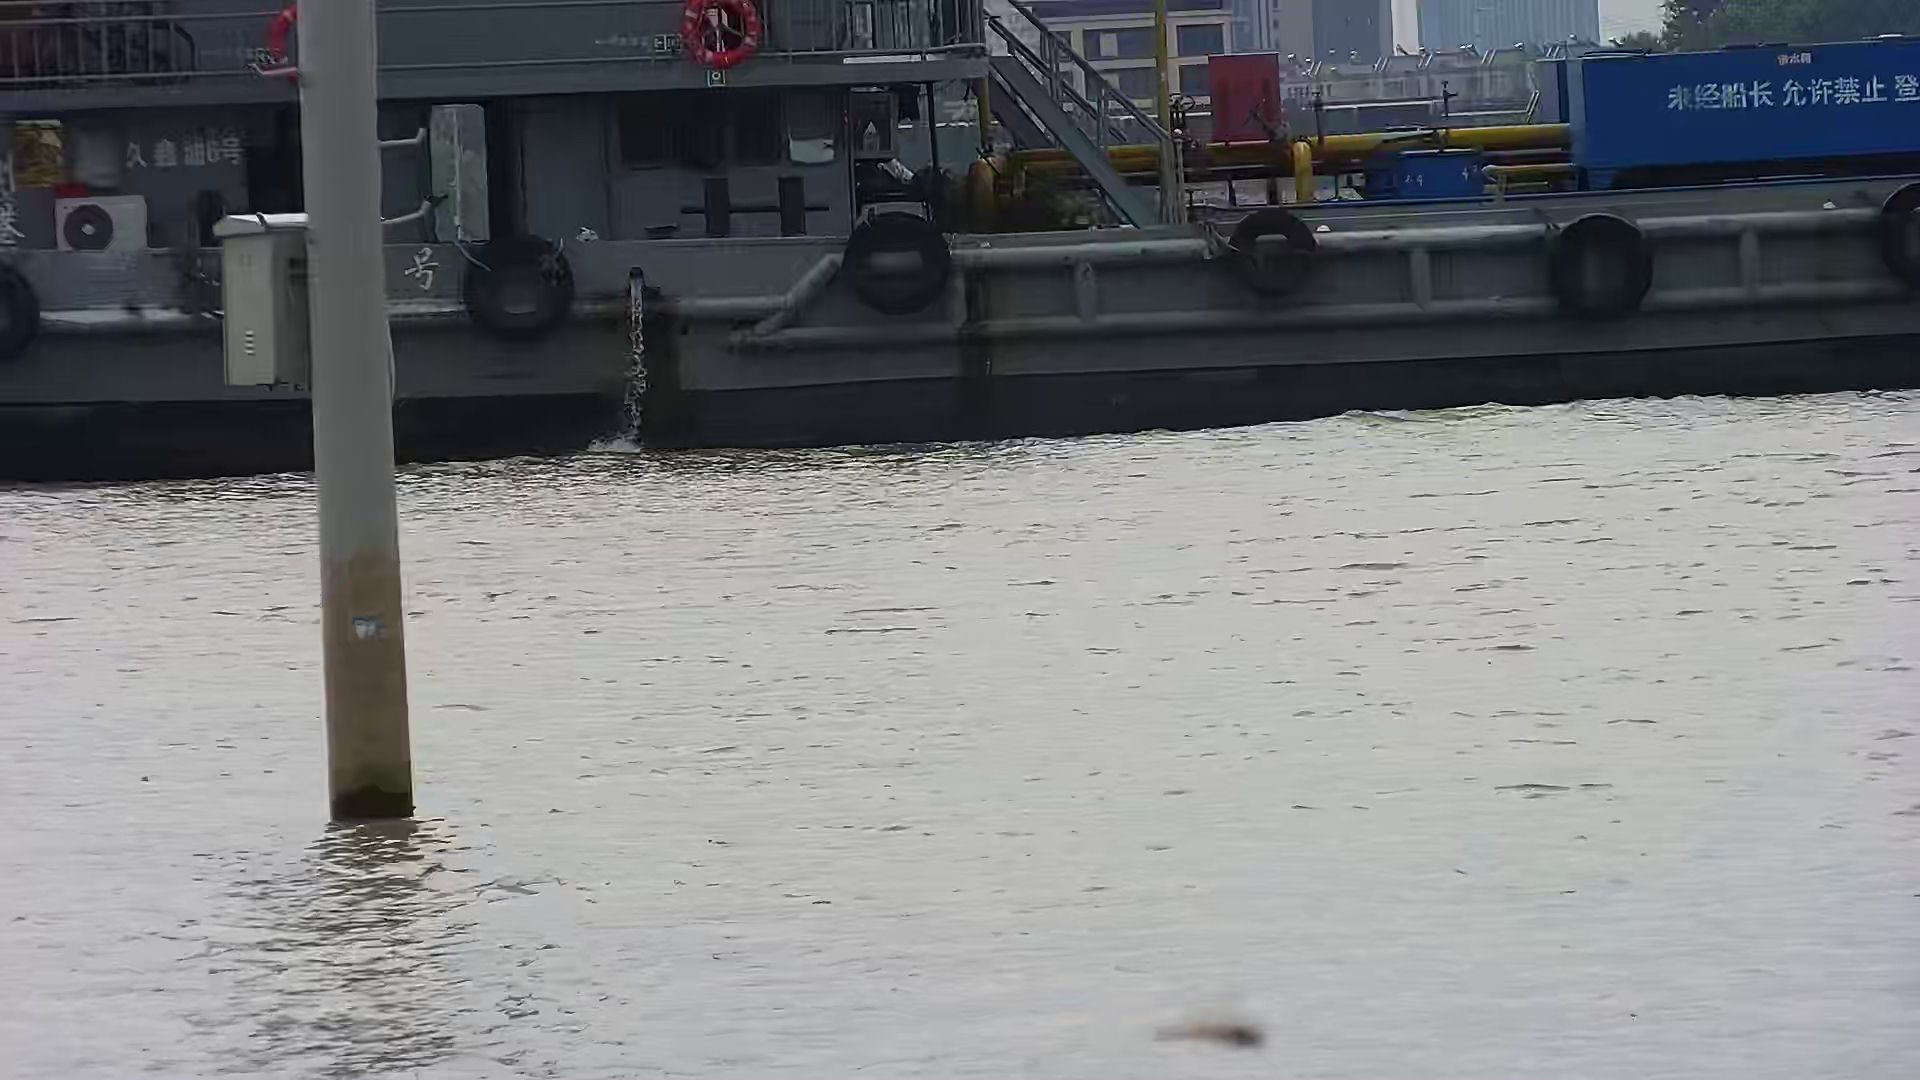mast: (281, 3, 419, 836)
ship: (1, 1, 1920, 483)
